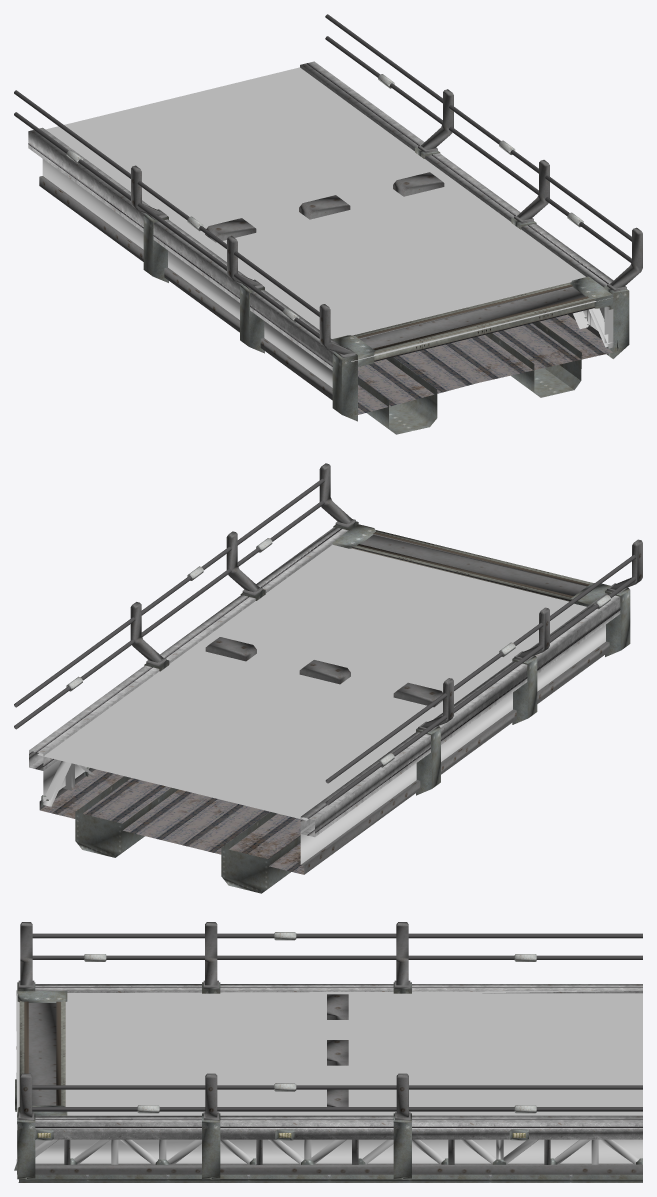
Rendered from Ob_BridgePart_RC.fbx.
The picture shows the model from 3 angles, top to bottom: view 1: azimuth 30°, elevation 25°; view 2: azimuth 150°, elevation 25°; view 3: azimuth 270°, elevation 25°; orthographic projection.
Visible parts, largest first — view 1: Ob_BridgePart_RC; view 2: Ob_BridgePart_RC; view 3: Ob_BridgePart_RC.
Part boxes in pixels (<box>): Ob_BridgePart_RC: <box>14,14,642,434</box>; Ob_BridgePart_RC: <box>14,463,642,893</box>; Ob_BridgePart_RC: <box>14,922,642,1182</box>.
Bounding box in the file's own units: 1524 × 647 × 2620.
